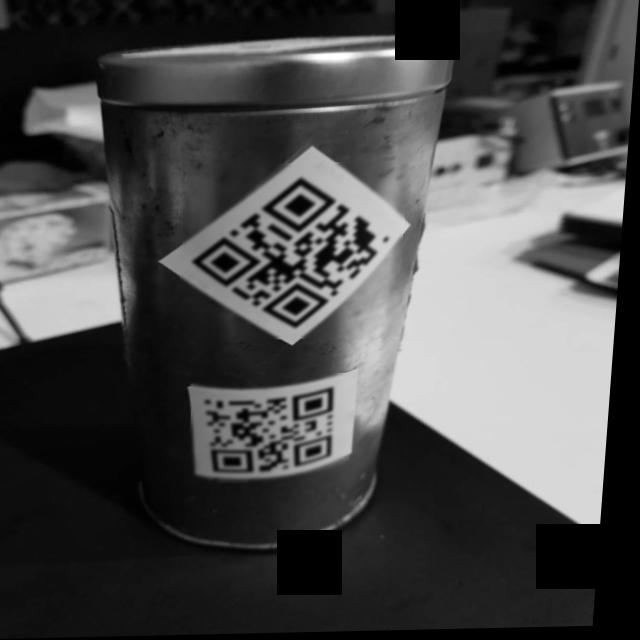QR_CODE: (181, 163, 411, 342), (194, 374, 357, 485)
